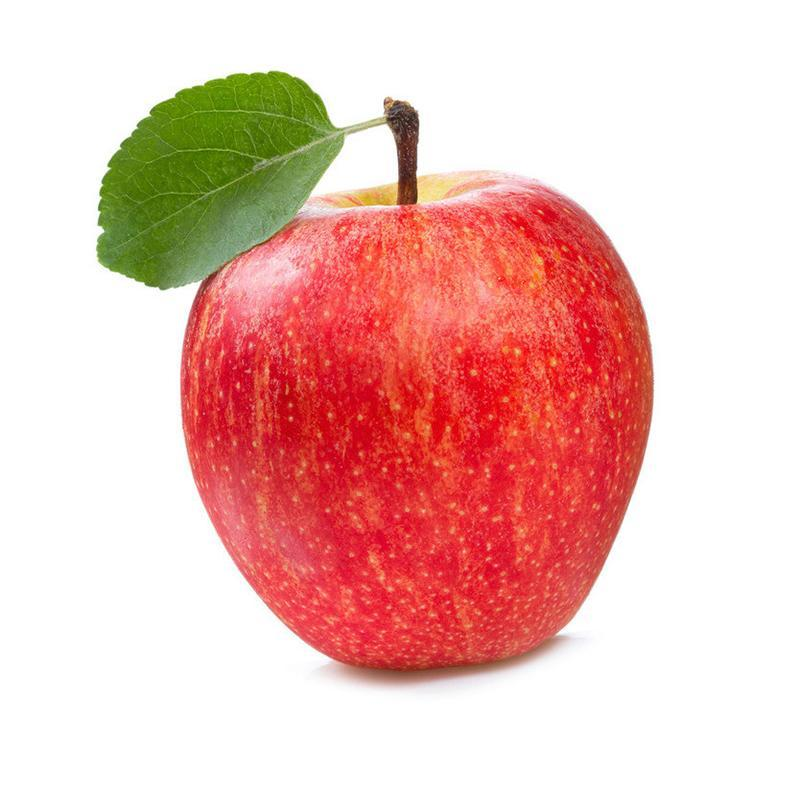apple: (186, 170, 659, 675)
